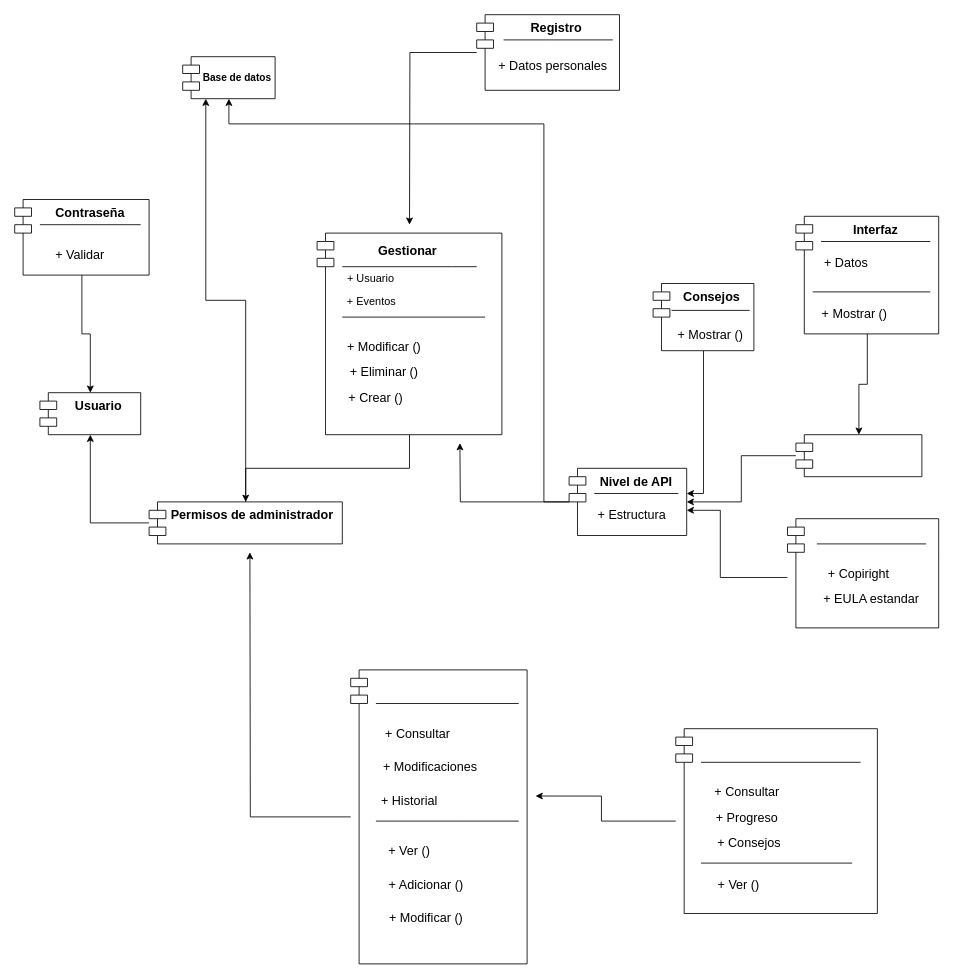
The diagram is 954 pixels wide and 979 high, and some of its shapes have lost their labels. The box of each missing label's shape, as (x1, y1, x2, y2) in pixels:
Actualizaciones del sistema: (795, 434, 922, 477)
Eventos: (350, 669, 527, 964)
Historial: (675, 728, 877, 914)
Licencia: (787, 518, 939, 628)
